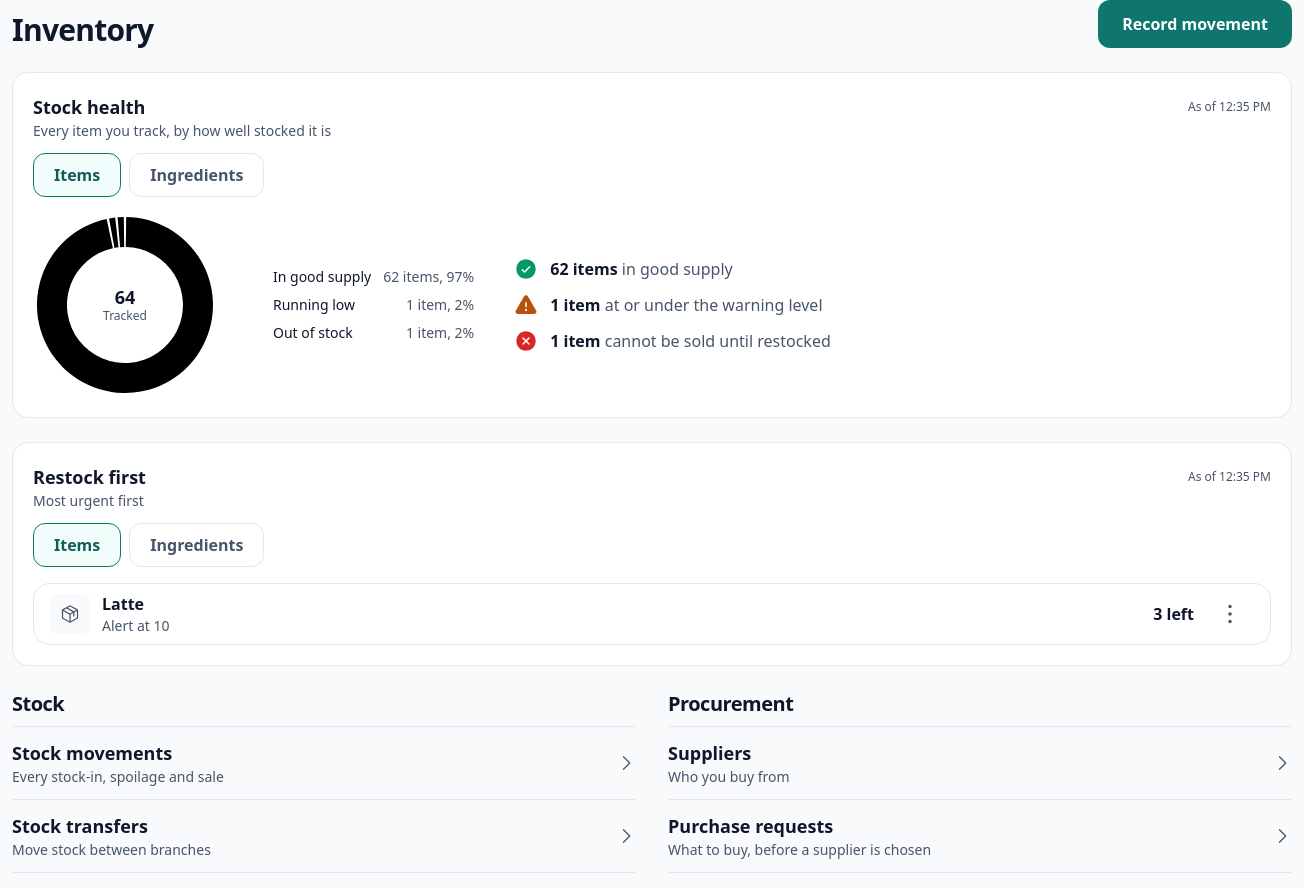
Test: InventoryHomePage › with ingredients tracked separately › lists low ingredients on their own tab and sends them to Receive delivery
Expected: the text "Latte" is shown, [102,593,144,615]
Expected: the text "Oat Milk" is not shown
Click the tab "Ingredients" below "Stock health": (197, 175) [129,153,264,197]
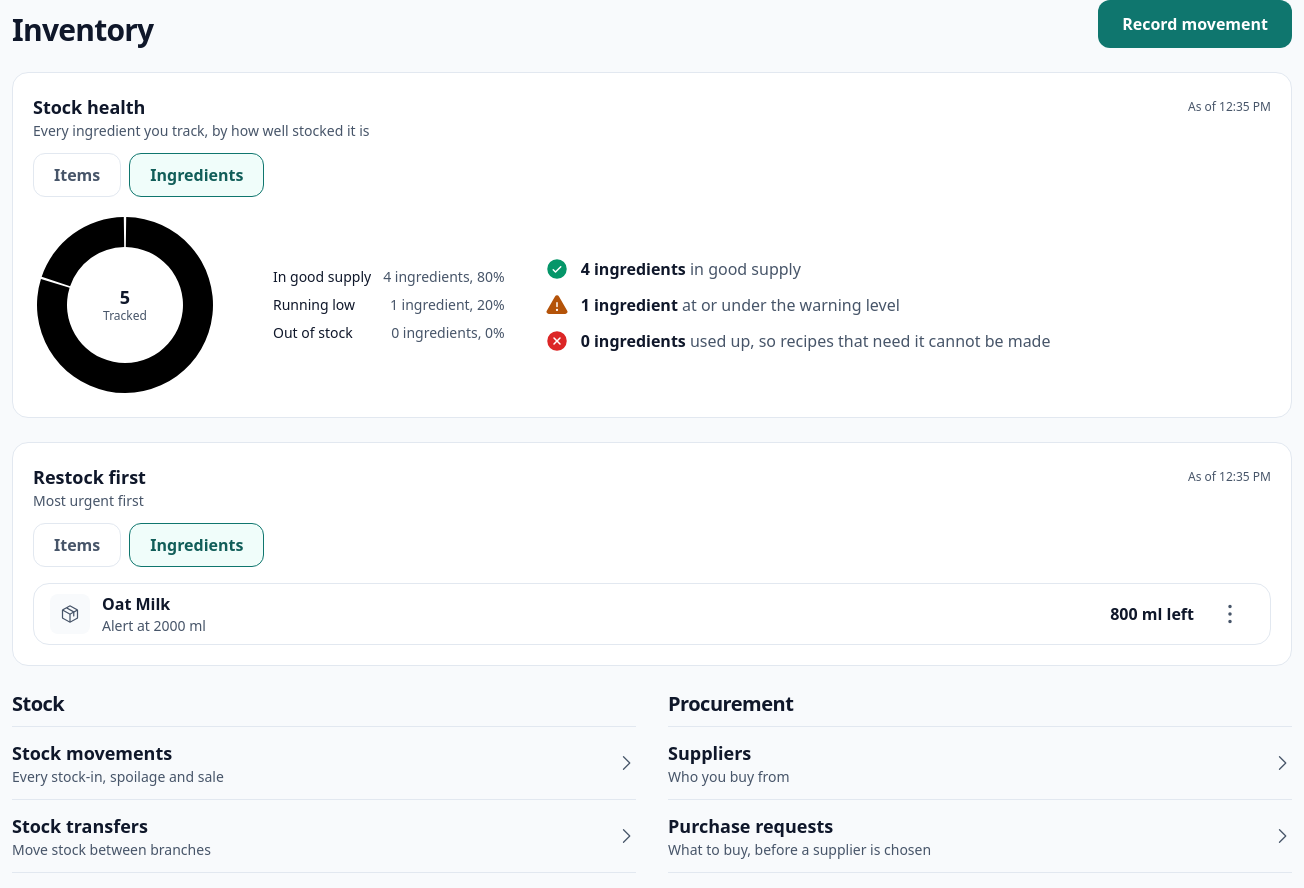
Expected: the text "Oat Milk" is shown, [102,593,170,615]
Expected: the text "Latte" is gone
Click the button named "Actions for Oat Milk": (1230, 614) [1206,590,1254,638]
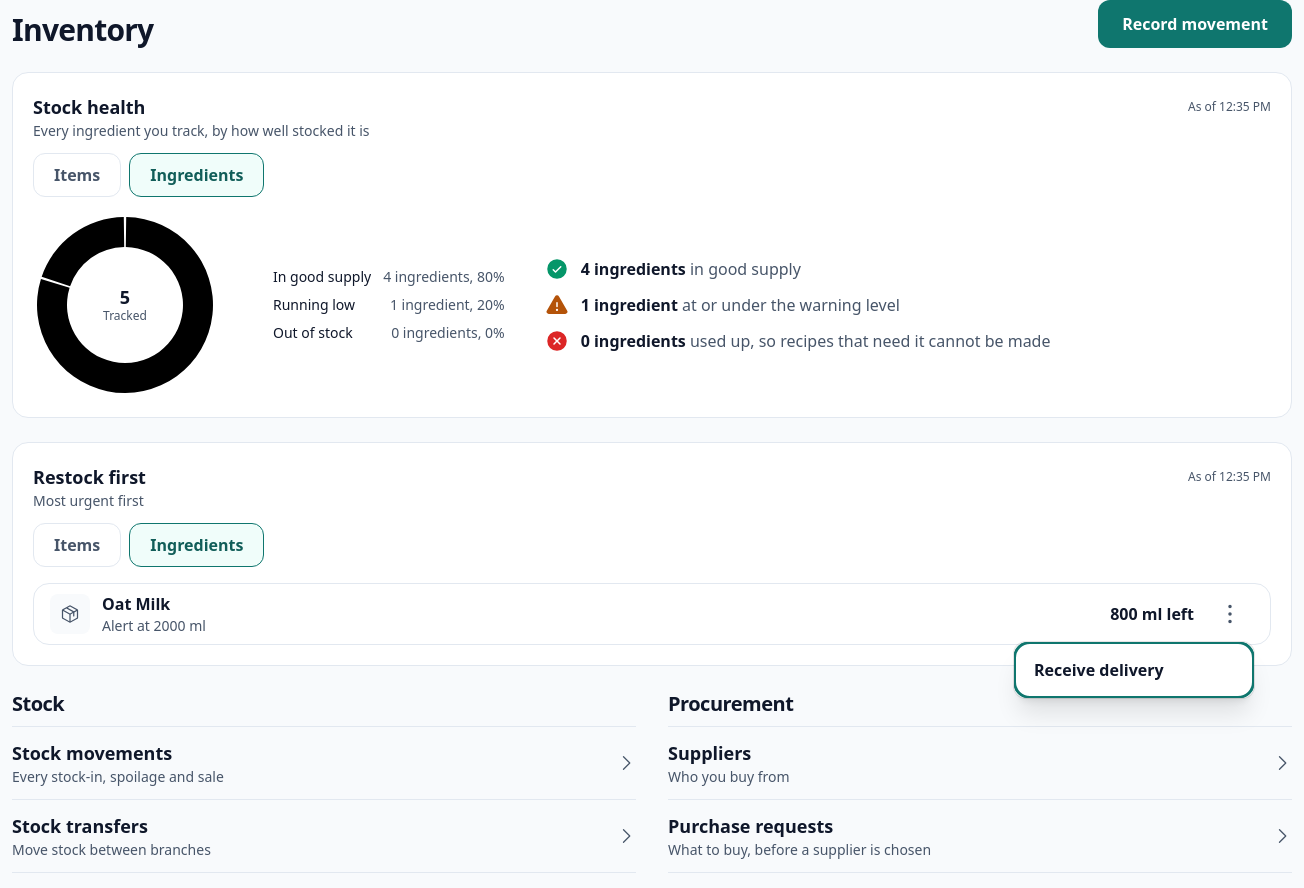
Expected: the menu item "Receive delivery" is shown, [1018,646,1250,694]
